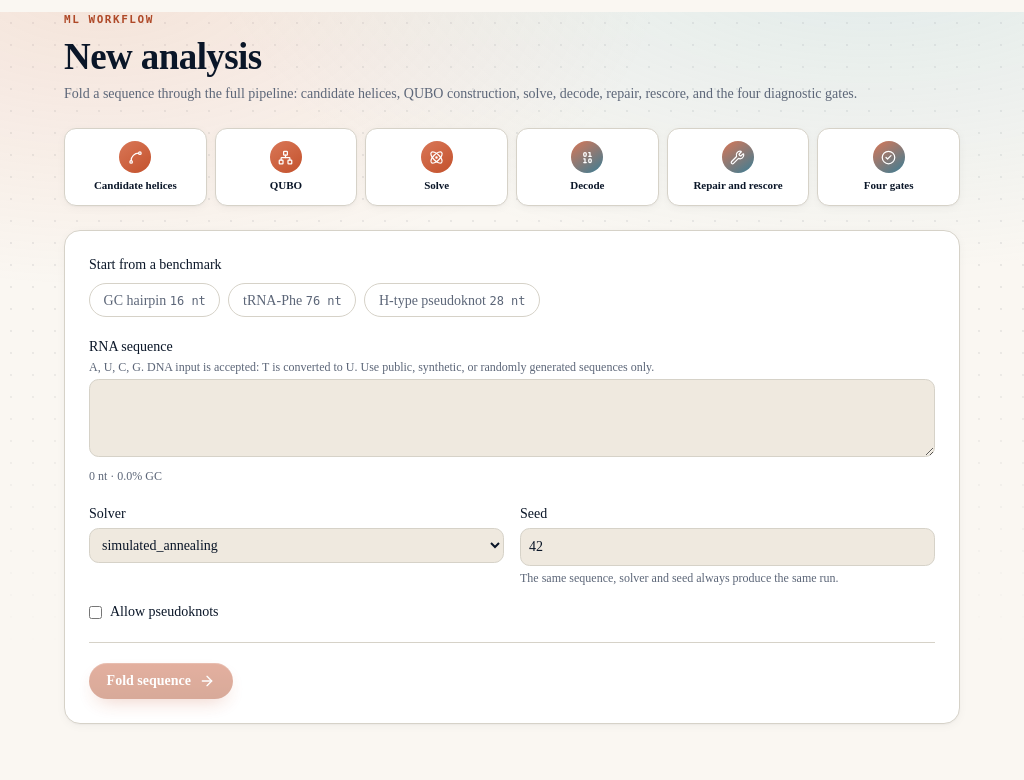
analysis wizard › rejects a sequence containing an invalid nucleotide
Type "GGXAU" into the text box labelled "RNA sequence". click: (512, 418)
box: [89, 379, 935, 457]
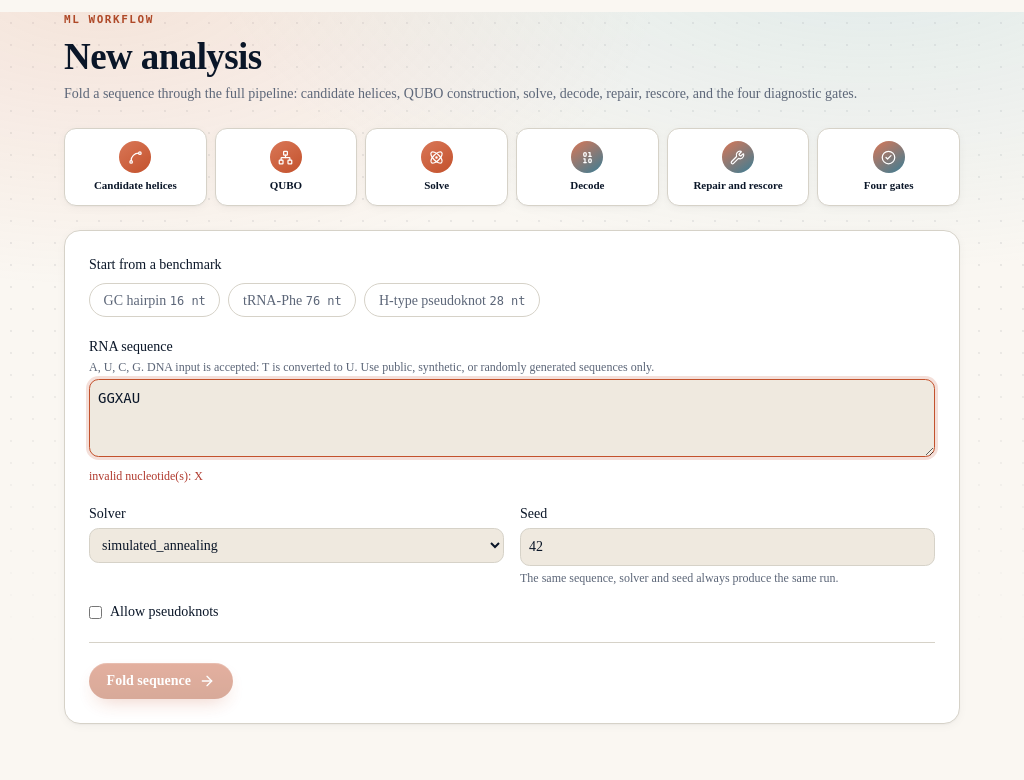
expect the button "Fold sequence" is disabled: met, box [89, 663, 233, 699]
expect the text "invalid nucleotide(s): X" is shown: met, box [89, 469, 203, 483]
